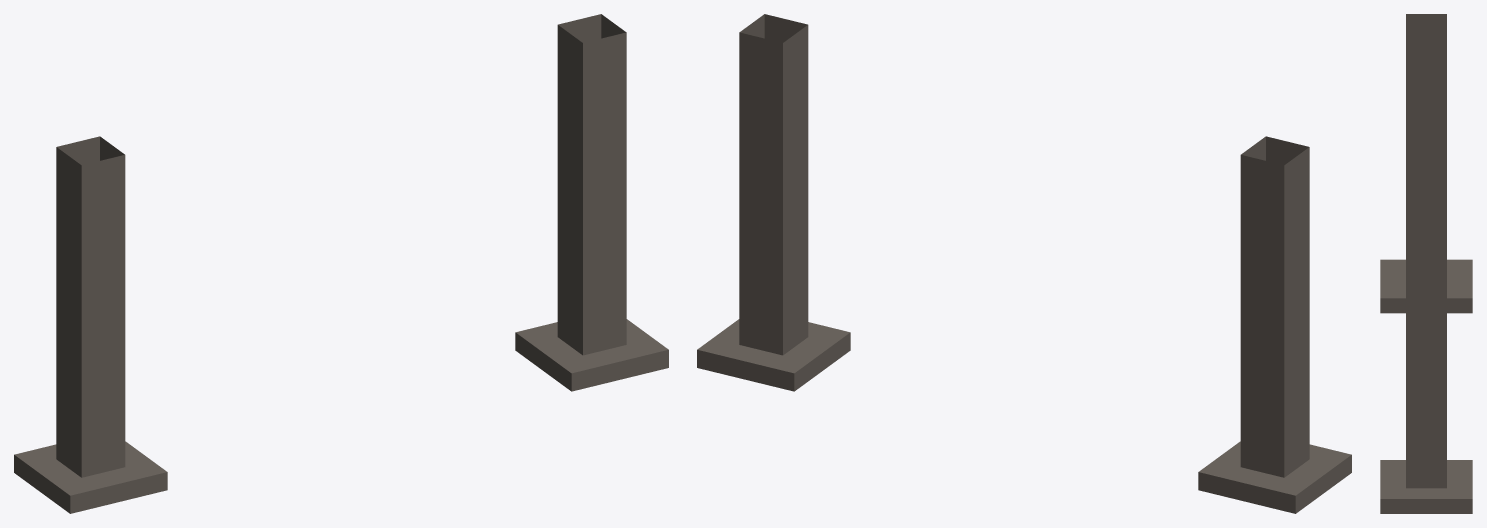
Rendered from SM_Props_Roof_Vent_Stand.fbx.
The picture shows the model from 3 angles, left to right: view 1: azimuth 30°, elevation 25°; view 2: azimuth 150°, elevation 25°; view 3: azimuth 270°, elevation 25°; orthographic projection. The views are drawn at different scales.
Visible parts, largest first — view 1: SM_Props_Roof_Vent_Stand; view 2: SM_Props_Roof_Vent_Stand; view 3: SM_Props_Roof_Vent_Stand.
Boxes of the visible parts, box(x1,y1,x2,y2) form: SM_Props_Roof_Vent_Stand: box(14, 14, 668, 513); SM_Props_Roof_Vent_Stand: box(697, 14, 1351, 513); SM_Props_Roof_Vent_Stand: box(1380, 14, 1472, 513).
Bounding box in the file's own units: 110 × 58 × 17.84.
